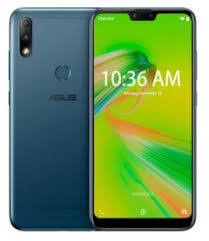asus: (88, 4, 200, 237), (3, 2, 95, 235)
